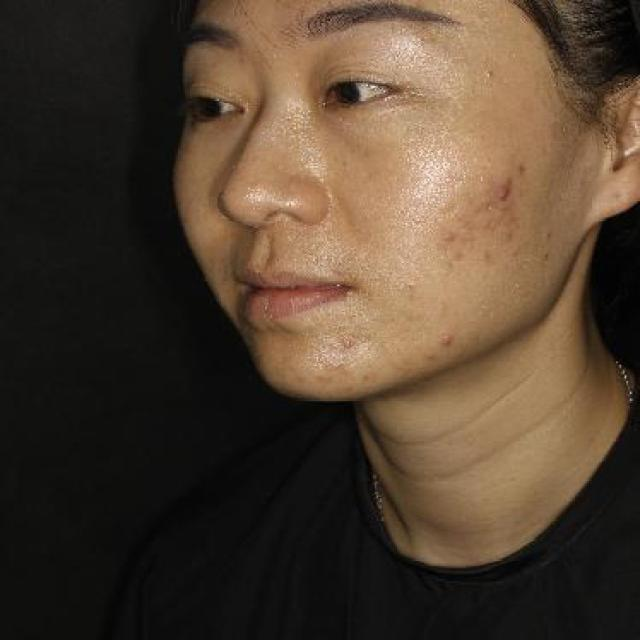Acne: (433, 225, 463, 246), (493, 181, 517, 206), (510, 158, 536, 180), (434, 329, 461, 350)
Blackheads: (538, 248, 557, 264), (542, 228, 557, 242)
Whiteheads: (477, 62, 504, 86), (401, 276, 422, 294), (339, 336, 357, 352)
